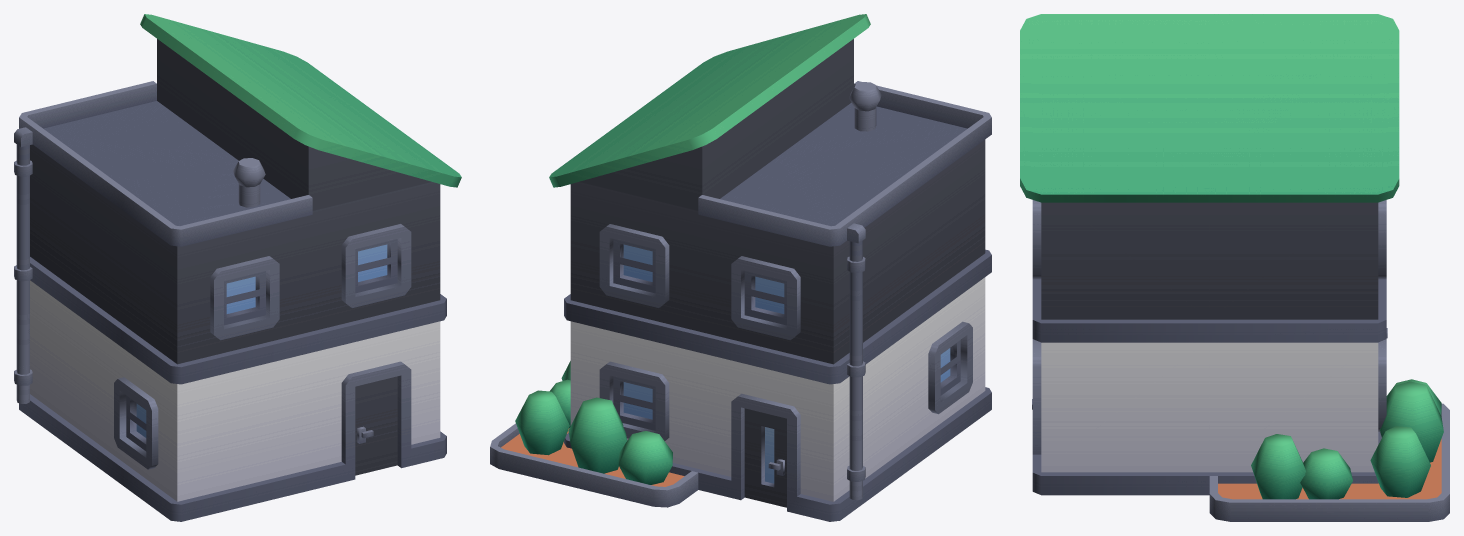
Rendered from building-type-l.glb.
3 views of the same model, side by side, from view 1: azimuth 30°, elevation 25°; view 2: azimuth 150°, elevation 25°; view 3: azimuth 270°, elevation 25° (orthographic). The views are drawn at different scales.
Visible parts, largest first — view 1: building-type-l; view 2: building-type-l; view 3: building-type-l.
Boxes of the visible parts, bbox=[...] form: building-type-l: bbox=[14, 14, 461, 521]; building-type-l: bbox=[490, 14, 991, 521]; building-type-l: bbox=[1020, 14, 1449, 521].
Bounding box in the file's own units: 1.03 × 1.05 × 1.02.
1 material, 1 textured.
